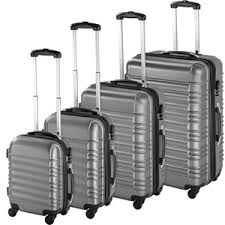suitcase: (126, 1, 225, 198), (80, 8, 165, 209), (45, 21, 114, 218), (4, 47, 72, 222)
